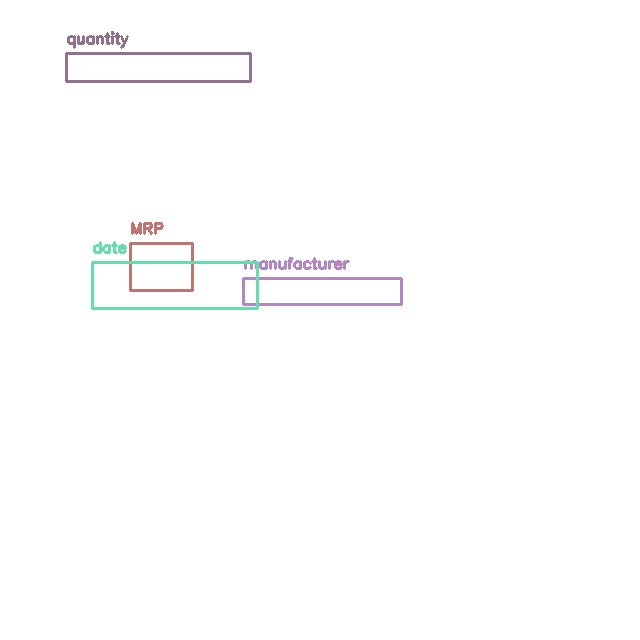MRP: (130, 243, 192, 290)
date: (92, 262, 257, 308)
manufacturer: (243, 278, 401, 304)
quantity: (66, 53, 250, 81)
